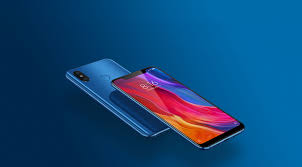mi: (110, 64, 248, 151)
